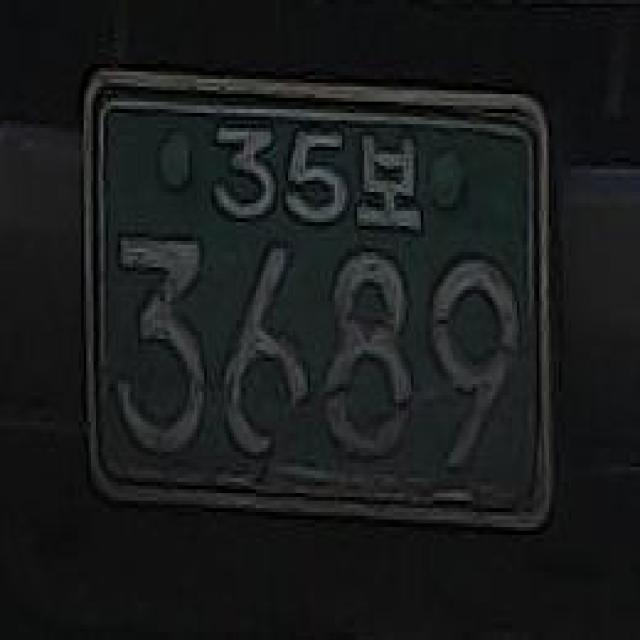illegal_plate: (71, 55, 574, 552)
